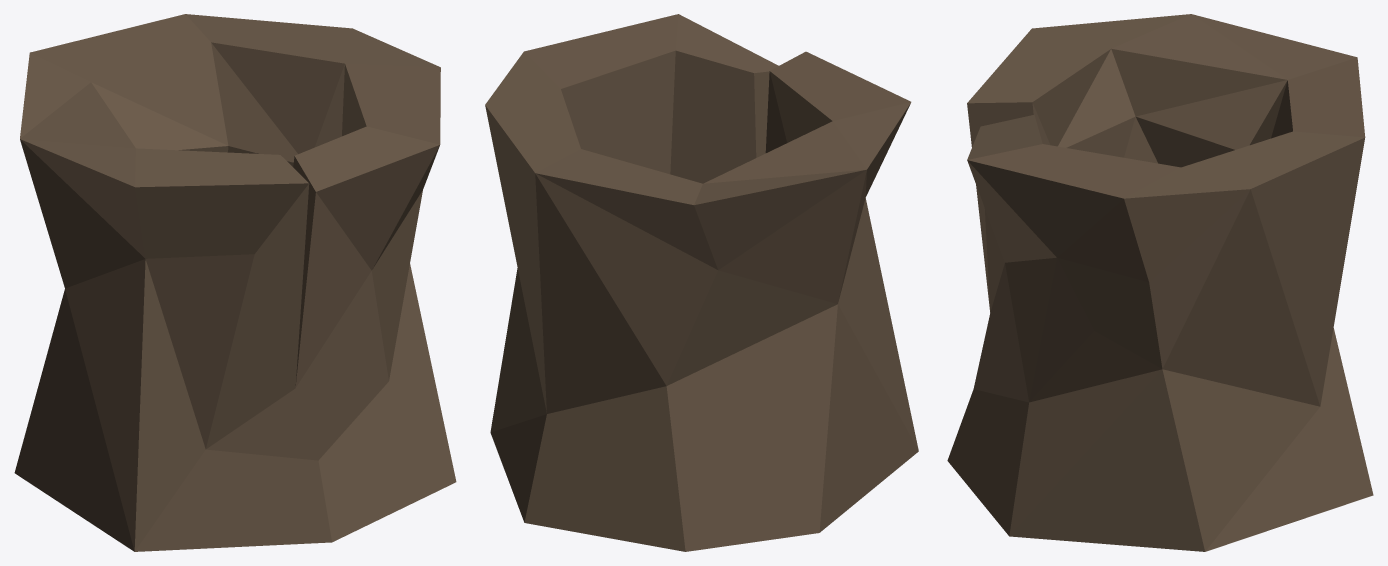
Rendered from Tree Stump.fbx.
3 views of the same model, side by side, from view 1: azimuth 30°, elevation 25°; view 2: azimuth 150°, elevation 25°; view 3: azimuth 270°, elevation 25° (orthographic). The views are drawn at different scales.
Visible parts, largest first — view 1: Stump; view 2: Stump; view 3: Stump.
Boxes of the visible parts, left/top/right/bottom form: Stump: left=14, top=14, right=456, bottom=551; Stump: left=485, top=14, right=918, bottom=551; Stump: left=947, top=14, right=1373, bottom=551.
Bounding box in the file's own units: 713 × 638 × 687.
